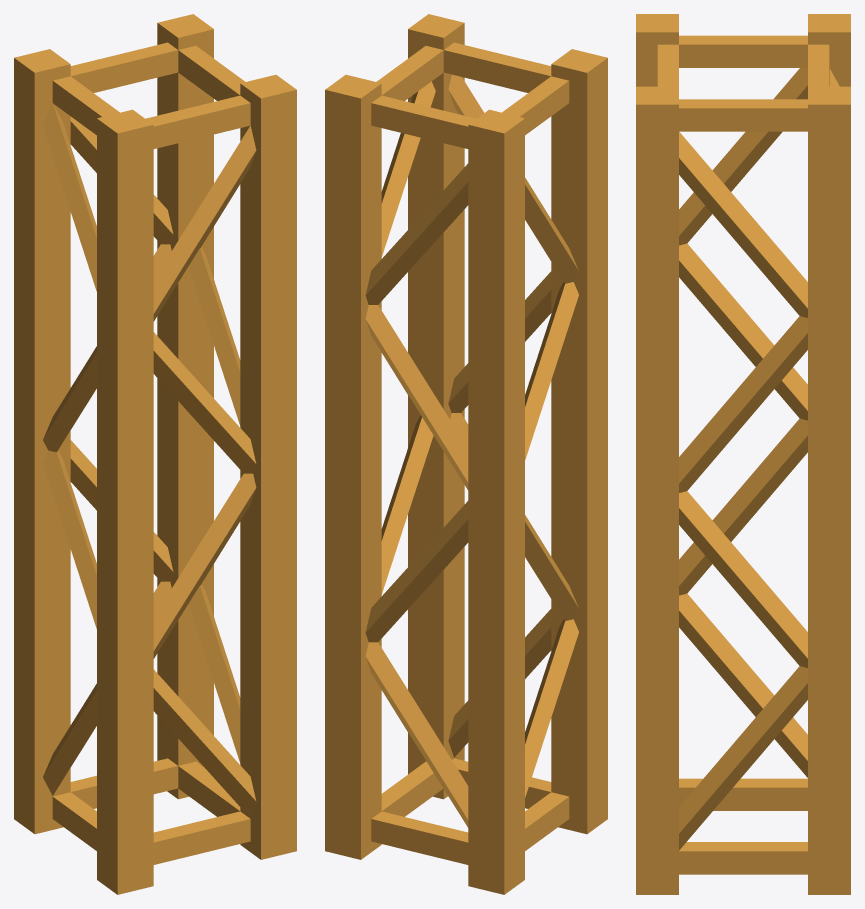
The model's file is stage-truss.fbx.
3 renders of one model, left to right at view 1: azimuth 30°, elevation 25°; view 2: azimuth 150°, elevation 25°; view 3: azimuth 270°, elevation 25°, orthographic. The views are drawn at different scales.
Parts seen in each view (by area): view 1: stage-truss; view 2: stage-truss; view 3: stage-truss.
Boxes of the visible parts, <box> form: stage-truss: <box>14,14,296,894</box>; stage-truss: <box>325,14,607,894</box>; stage-truss: <box>636,14,850,894</box>.
Size of the model in its own units: 0.5002 by 2.03 by 0.5002.
